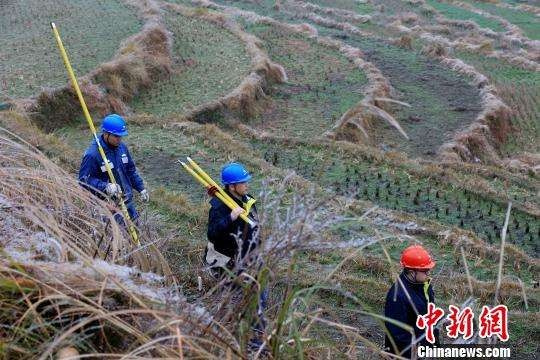blue: (219, 161, 250, 197), (100, 113, 126, 147)
red: (399, 244, 432, 284)
